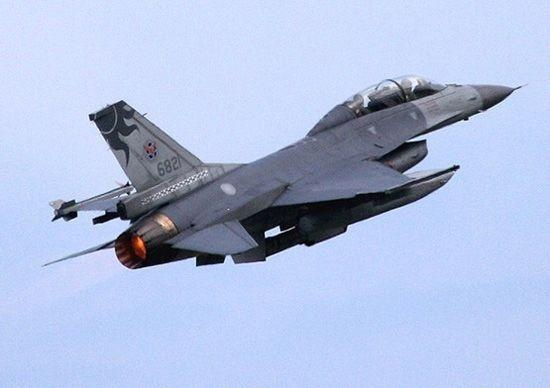airplane: (32, 60, 528, 270)
